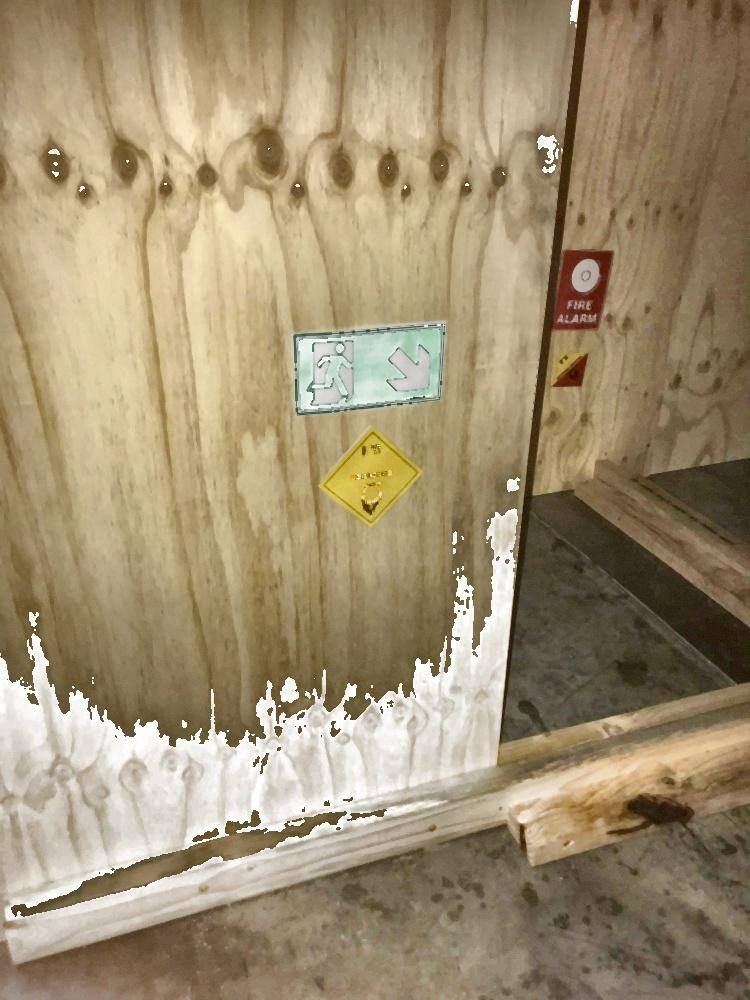organic-peroxide: (546, 347, 591, 391)
oxidizer: (318, 429, 427, 527)
